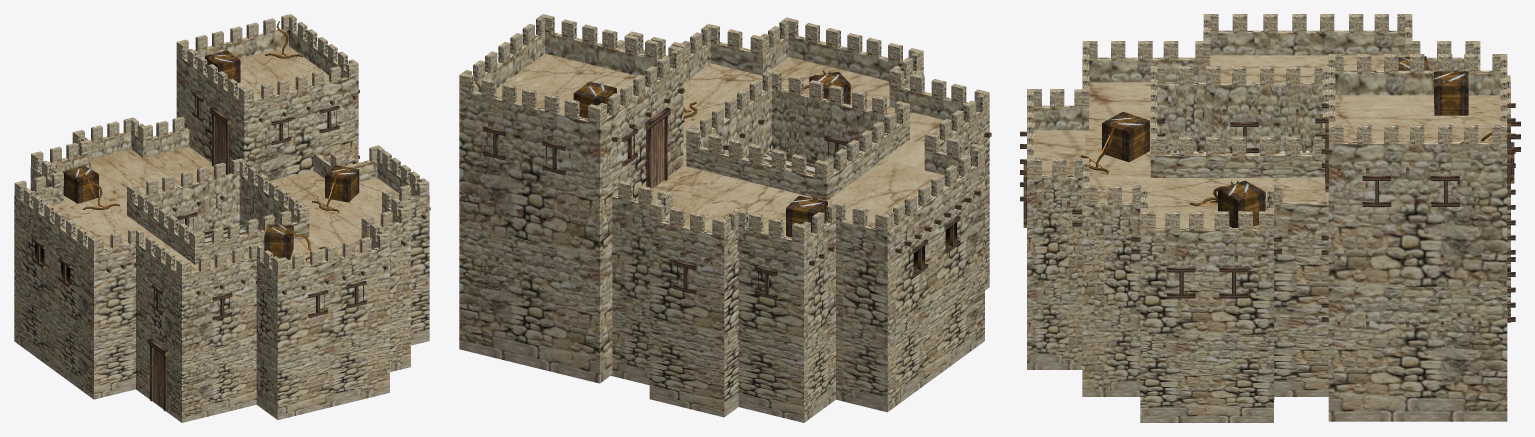
The model's file is fortress.dae.
3 renders of one model, left to right at view 1: azimuth 30°, elevation 25°; view 2: azimuth 150°, elevation 25°; view 3: azimuth 270°, elevation 25°, orthographic. The views are drawn at different scales.
Visible parts, largest first — view 1: fortress; view 2: fortress; view 3: fortress.
Boxes of the visible parts, x1,y1,x2,y2 form: fortress: (14,14,430,422); fortress: (459,14,991,422); fortress: (1020,14,1520,422).
Size of the model in its own units: 8.01 by 8.18 by 5.34.
